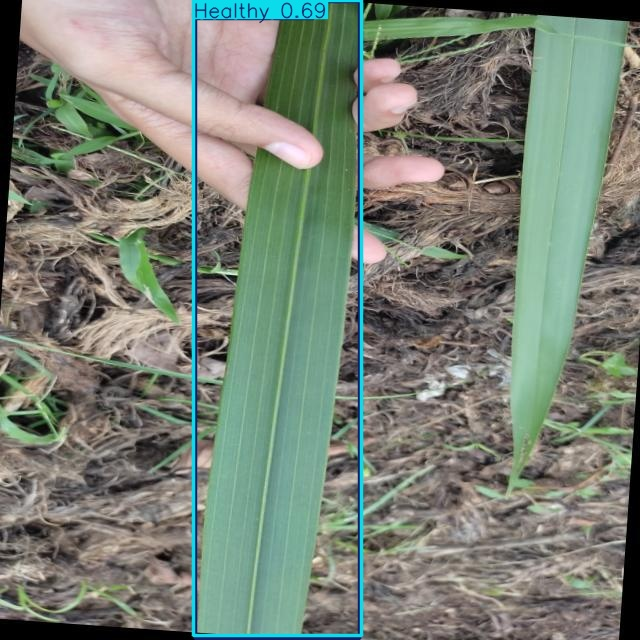Healthy: (193, 0, 361, 635)
nitrogen: (196, 1, 359, 638)
